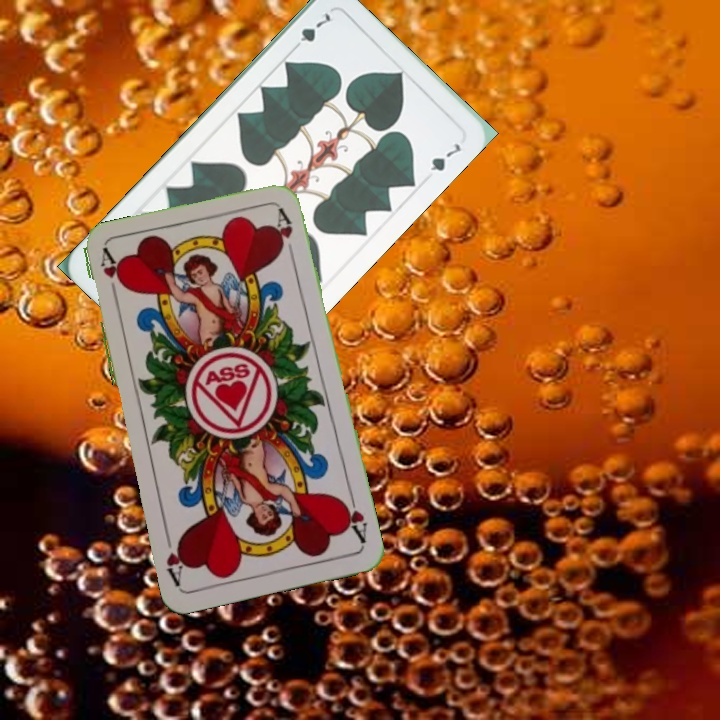G7: (289, 8, 333, 54)
HA: (337, 488, 370, 547), (96, 246, 125, 306)
